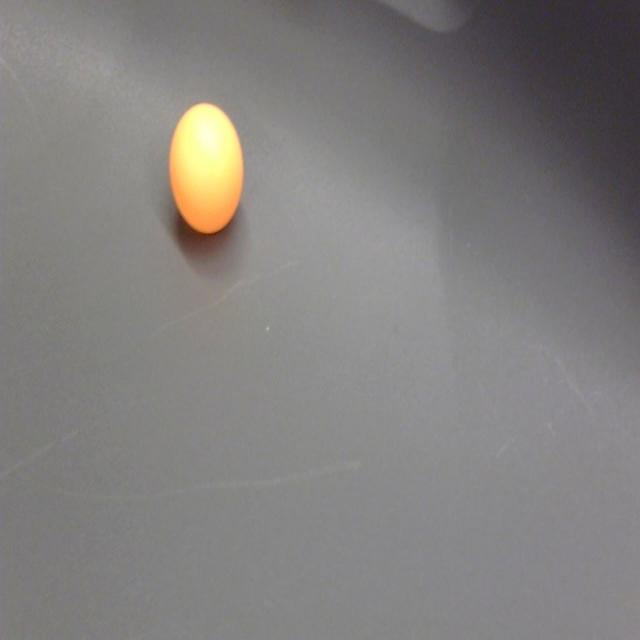ball: (166, 97, 248, 239)
